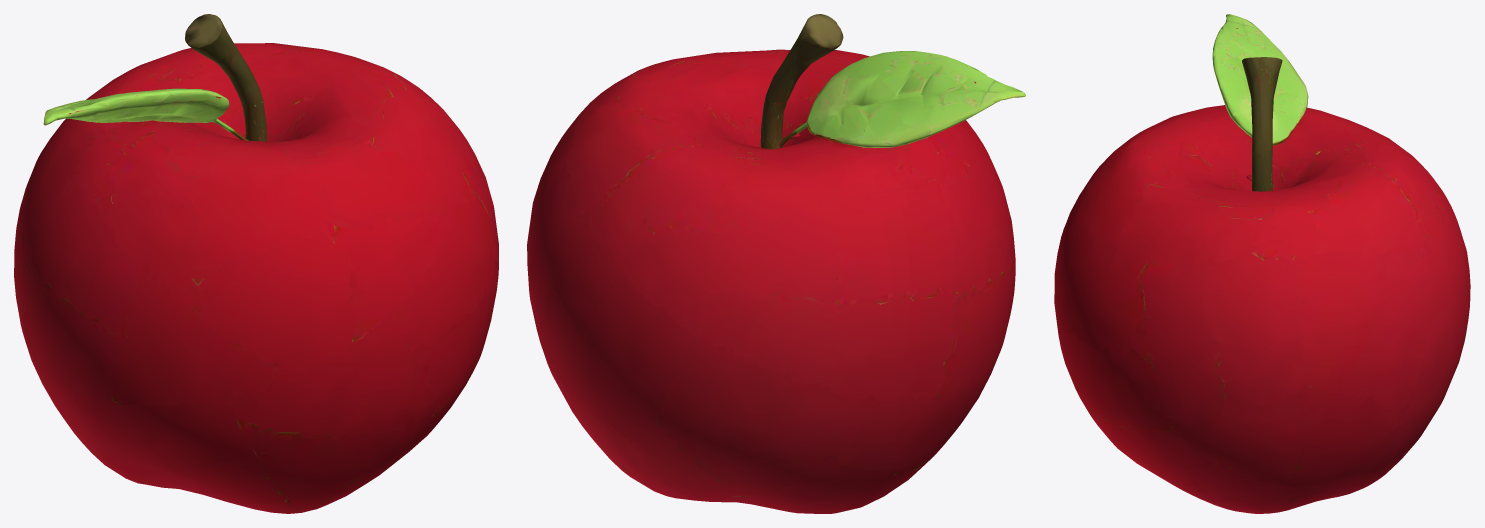
The model's file is apple.glb.
3 views of the same model, side by side, from view 1: azimuth 30°, elevation 25°; view 2: azimuth 150°, elevation 25°; view 3: azimuth 270°, elevation 25° (orthographic). The views are drawn at different scales.
Bounding box in the file's own units: 1.89 × 1.88 × 1.77.
Materials: 1 (1 with a texture image).
